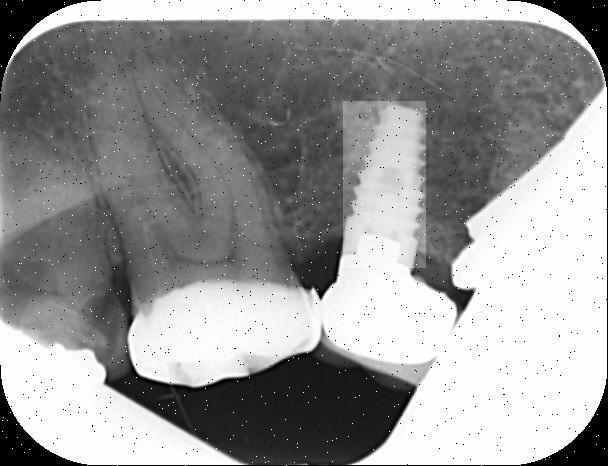BioHorizons: (339, 97, 442, 269)
